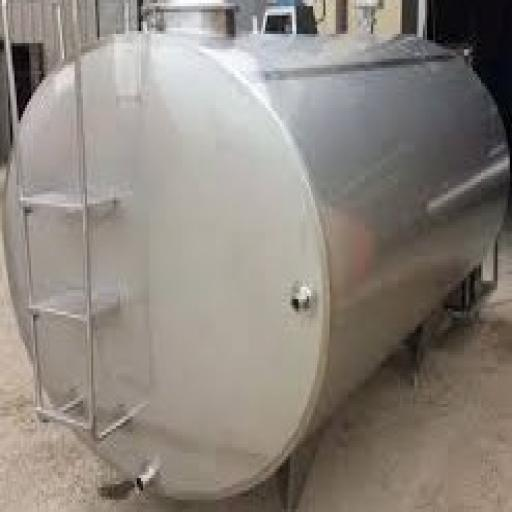silo: (2, 0, 510, 506)
